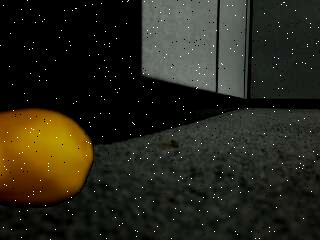Lemon: (0, 103, 96, 212)
